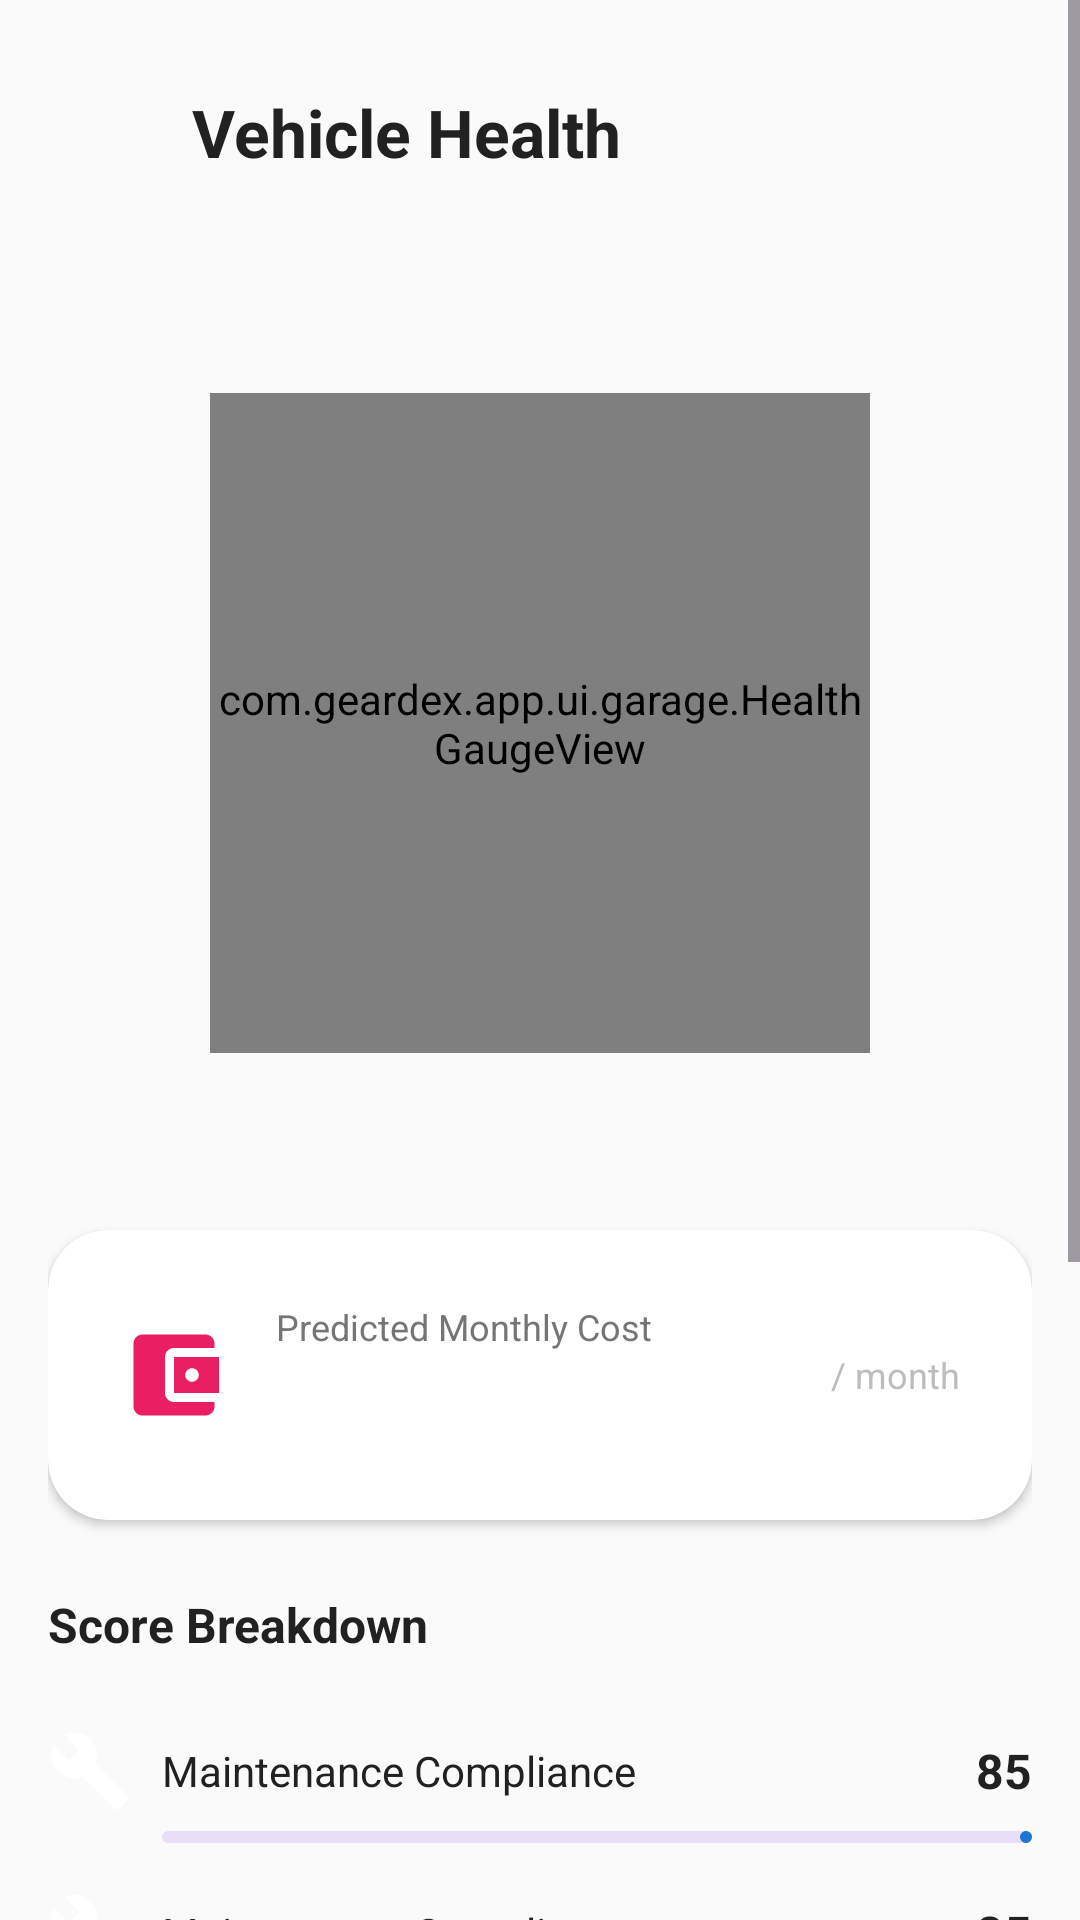

Icons on this 1080 x 1920 Android screen, each with its box as (x1, y1, x2, y2):
wallet: (133, 1334, 219, 1416)
